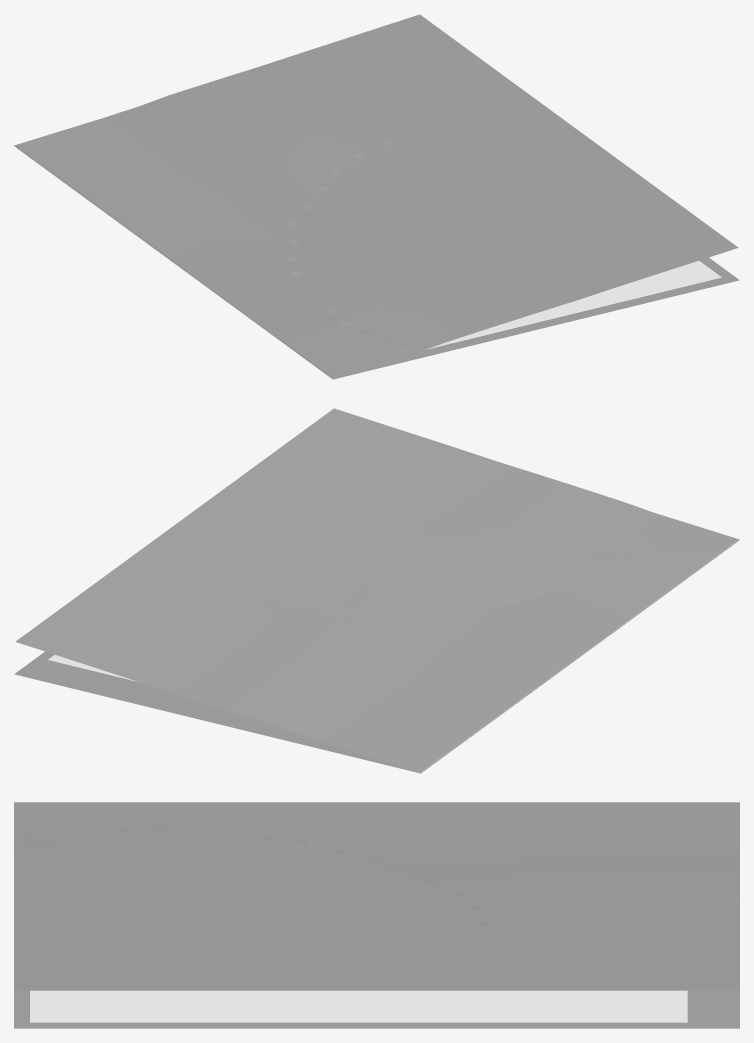
The model's file is Greeting Card_Base.fbx.
3 renders of one model, top to bottom at view 1: azimuth 30°, elevation 25°; view 2: azimuth 150°, elevation 25°; view 3: azimuth 270°, elevation 25°, orthographic. The views are drawn at different scales.
Visible parts, largest first — view 1: Full_Card, Cut_Part, Paper; view 2: Full_Card, Cut_Part; view 3: Full_Card, Cut_Part, Paper.
Part boxes in pixels (<box>): Full_Card: <box>14,14,739,379</box>; Cut_Part: <box>301,104,738,351</box>; Paper: <box>425,261,721,349</box>; Full_Card: <box>14,513,739,773</box>; Cut_Part: <box>138,408,653,615</box>; Full_Card: <box>14,802,739,1028</box>; Cut_Part: <box>14,833,478,990</box>; Paper: <box>30,990,687,1022</box>.
Bounding box in the file's own units: 5.61 × 0.4697 × 7.61.
